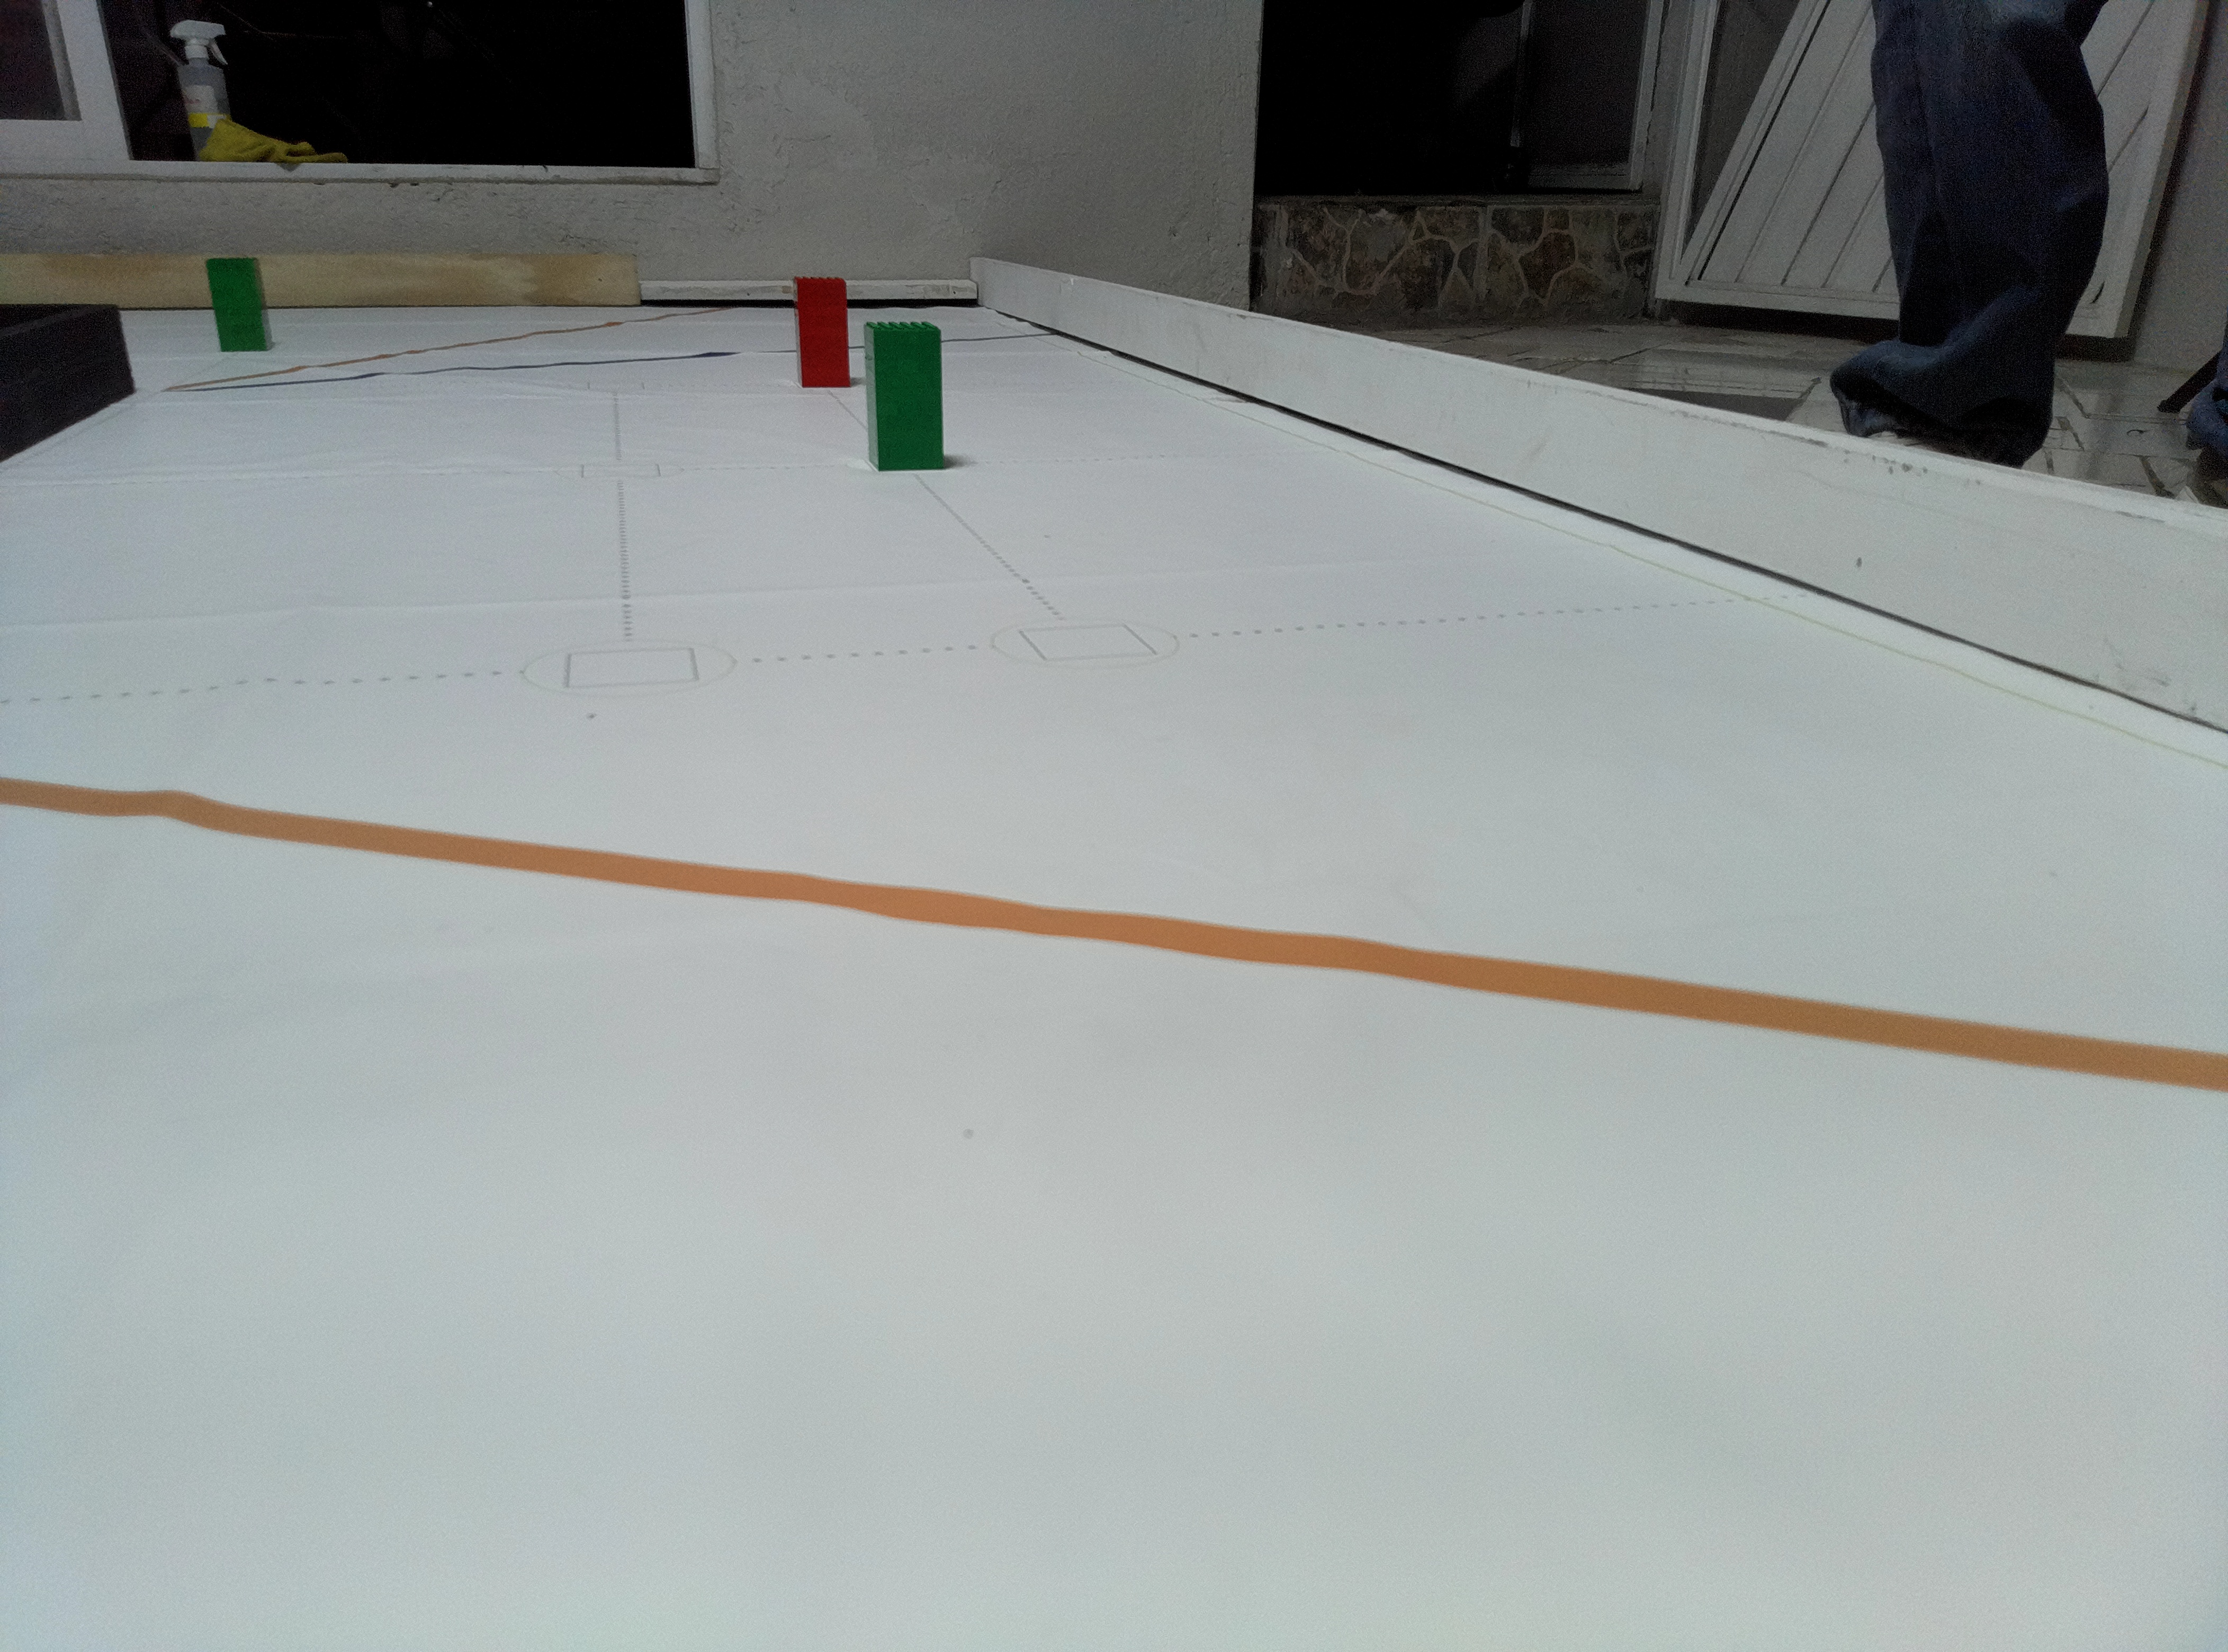greenbox: (861, 319, 946, 474), (203, 257, 276, 354)
redbox: (791, 272, 852, 389)
